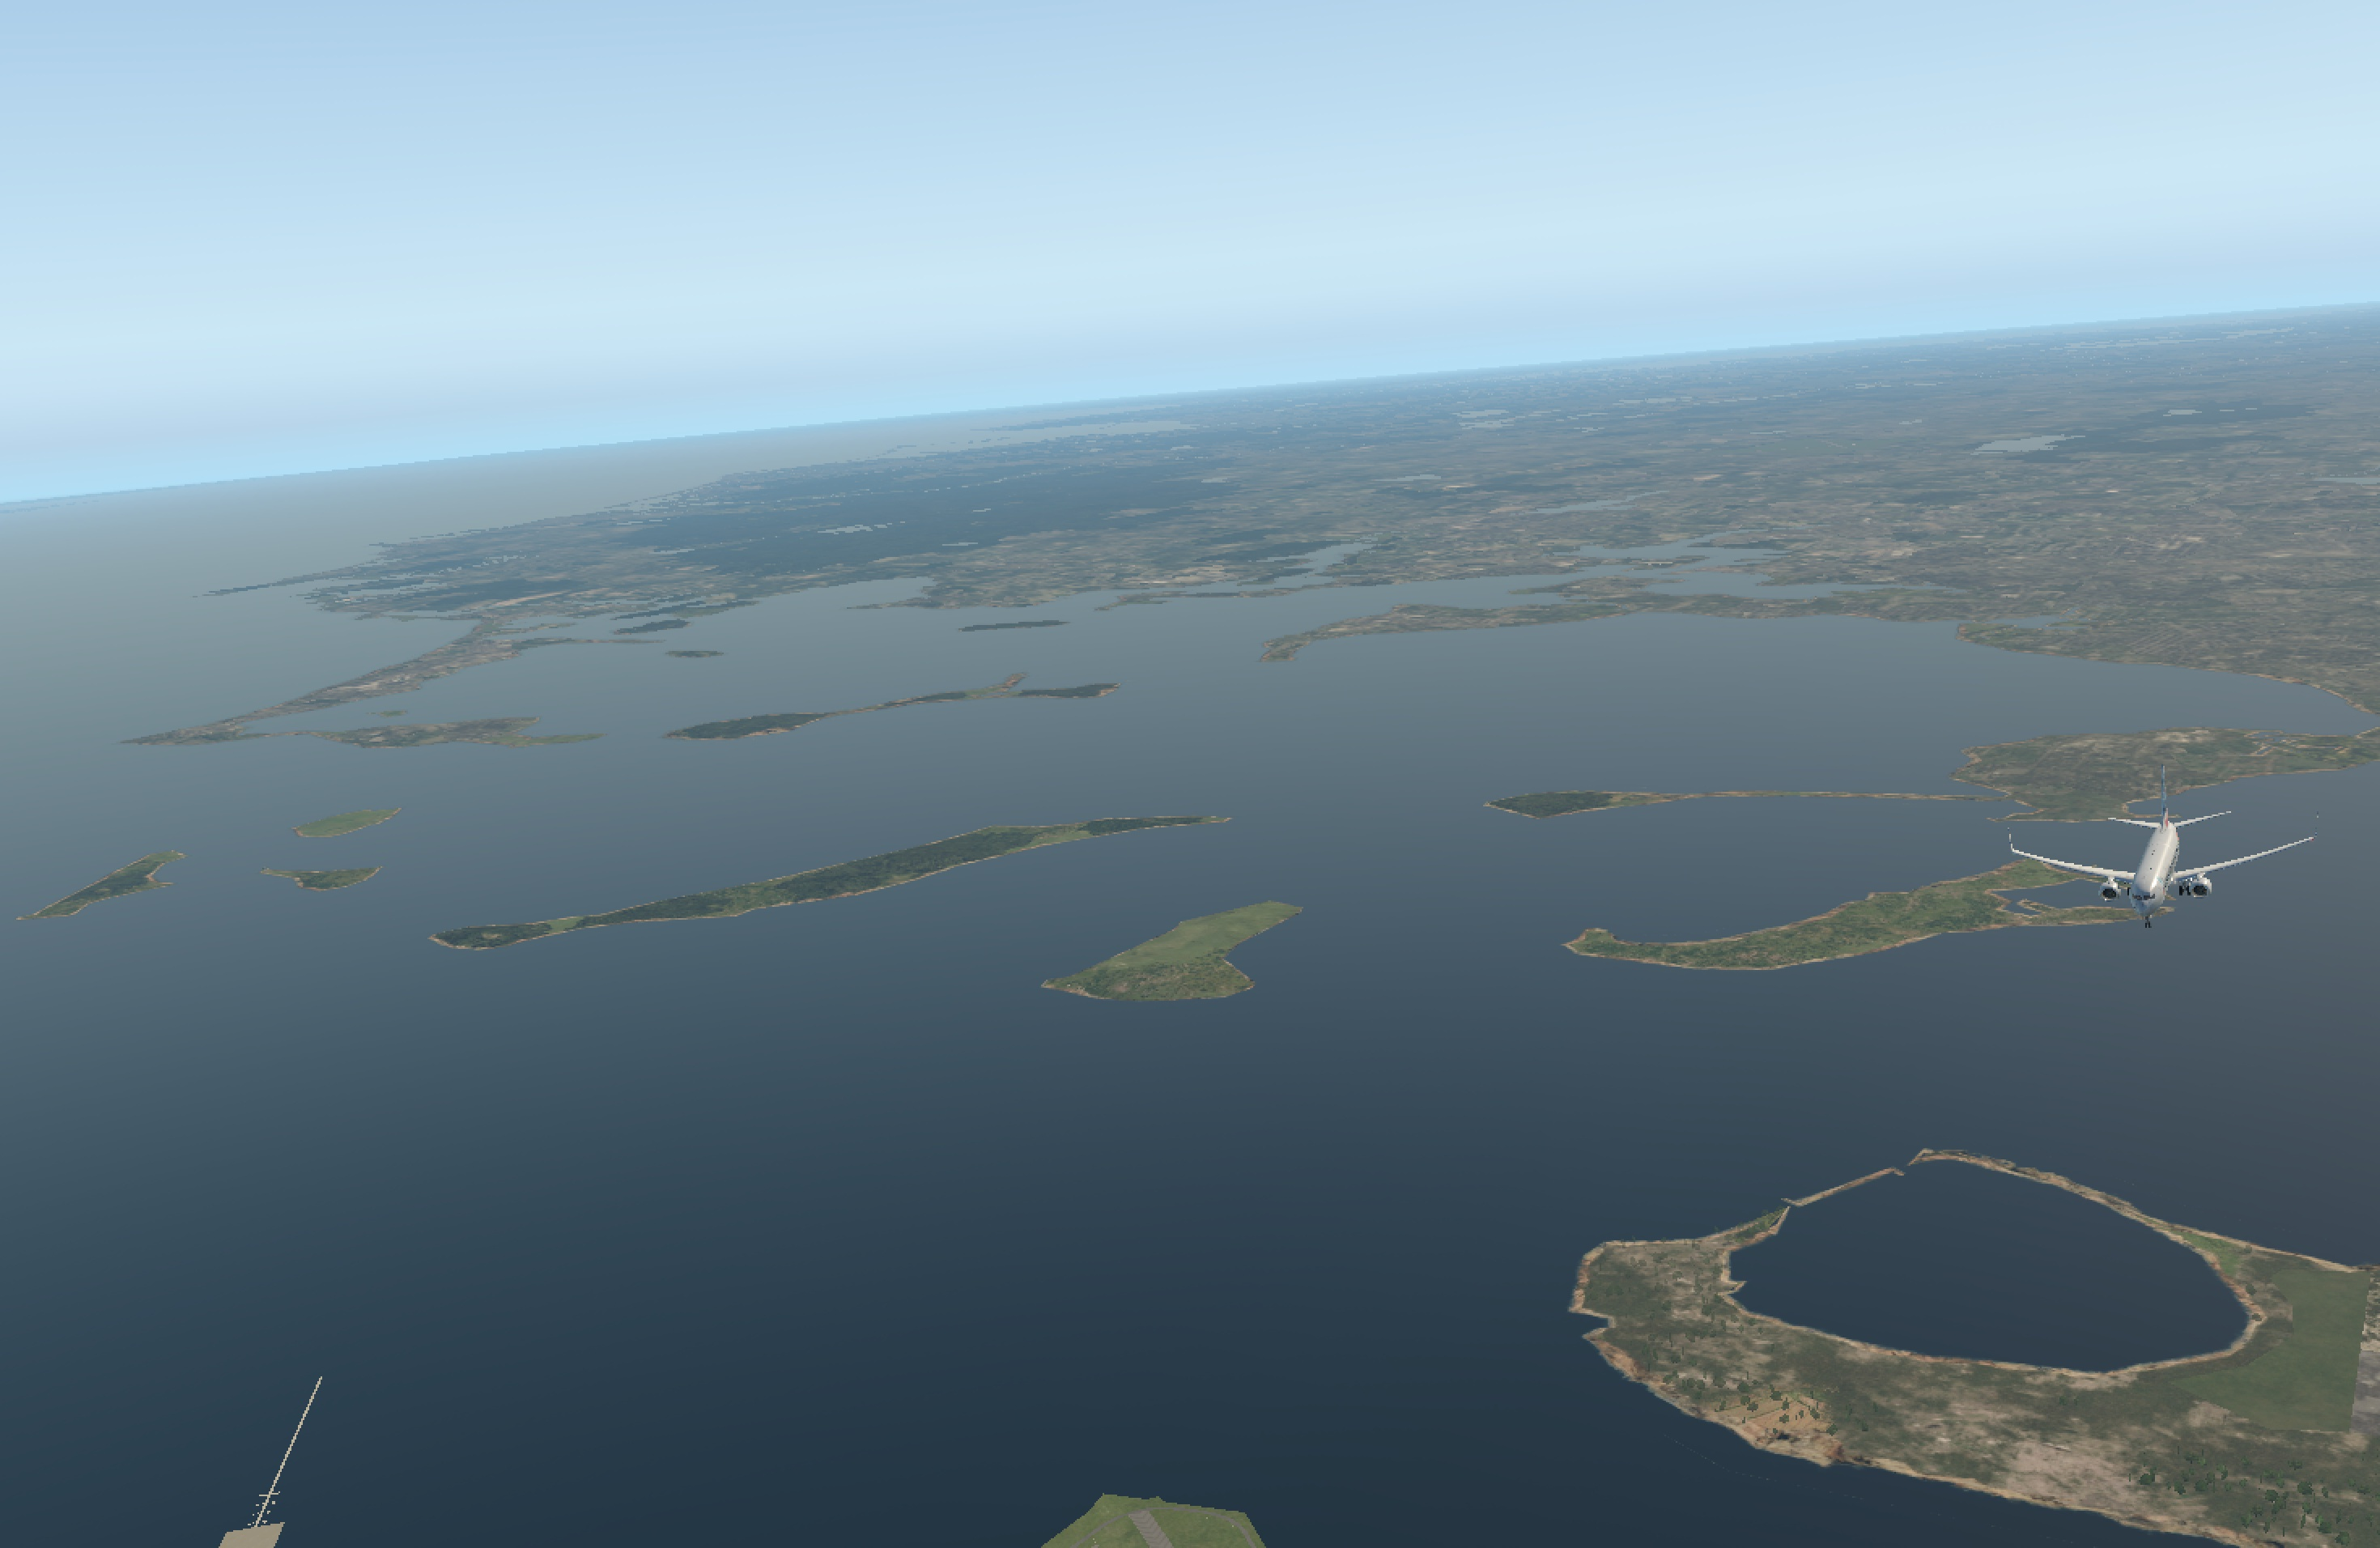aircraft: (2009, 819, 2304, 930)
